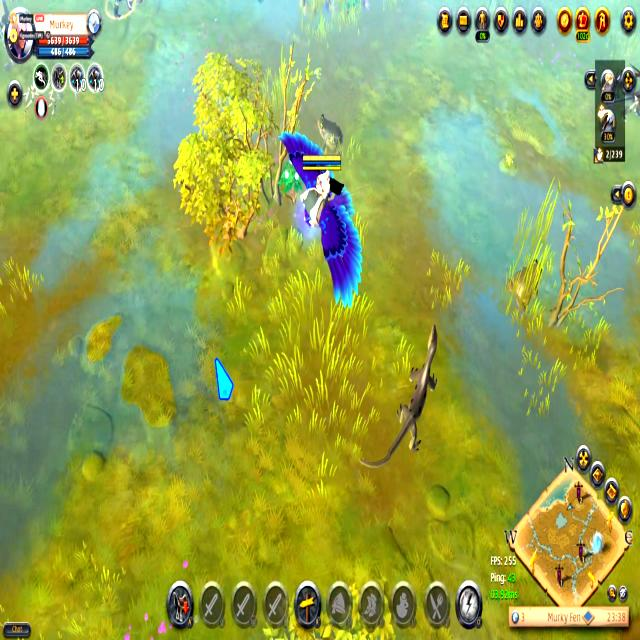hide: (274, 157, 304, 204)
ore: (356, 311, 448, 479), (311, 106, 347, 156), (614, 82, 640, 124), (104, 0, 143, 18)
red: (278, 122, 364, 316)
